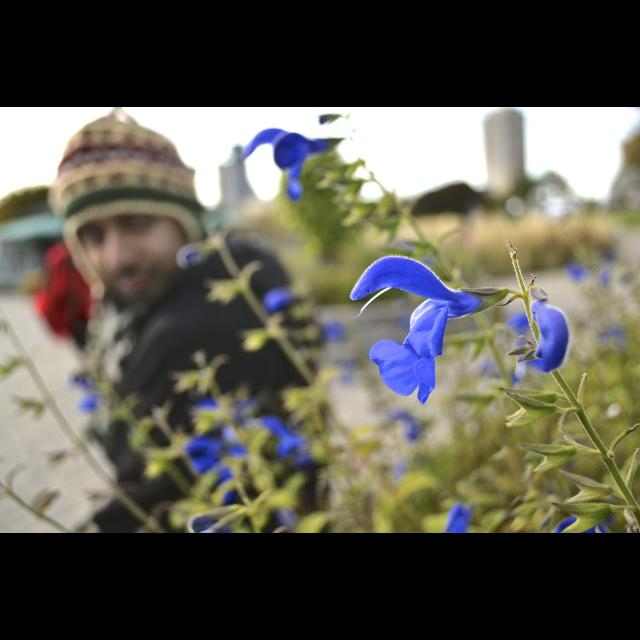Flower: (347, 256, 517, 406), (192, 397, 272, 501), (241, 131, 351, 197), (524, 296, 572, 374), (258, 420, 306, 460), (384, 415, 430, 439), (264, 289, 308, 313), (178, 245, 220, 268), (552, 517, 612, 533), (324, 318, 360, 344), (189, 513, 231, 533), (564, 254, 590, 286), (470, 354, 498, 380), (446, 504, 468, 534), (602, 324, 626, 348), (598, 244, 620, 270), (386, 455, 408, 479), (509, 314, 531, 334), (69, 375, 93, 391), (80, 395, 100, 413), (280, 506, 294, 530), (510, 358, 522, 386), (318, 112, 342, 124), (298, 456, 318, 470), (598, 270, 612, 288)
